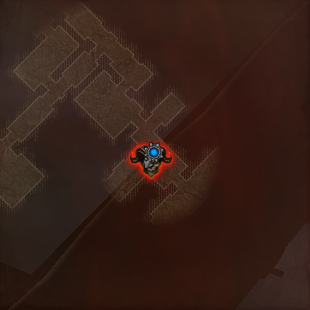Guardian: (128, 141, 175, 179)
